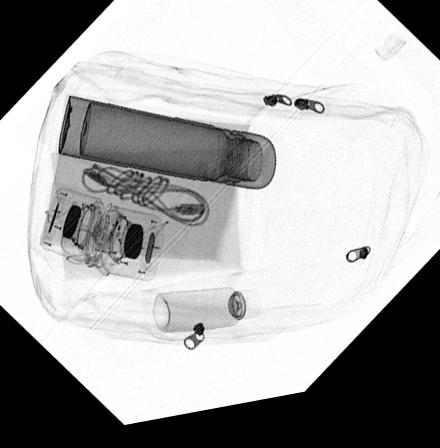Sprayer: (150, 294, 262, 340)
